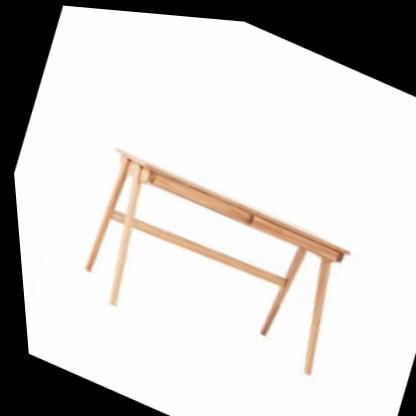Table: (49, 124, 395, 403)
